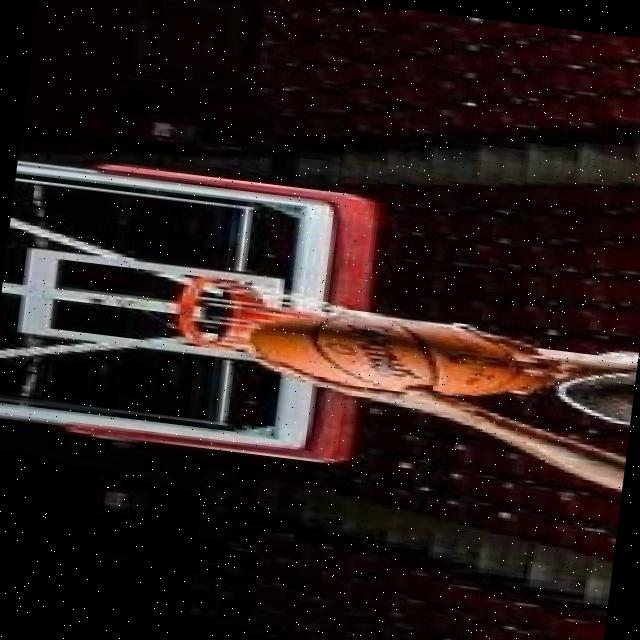ball: (237, 286, 550, 411)
